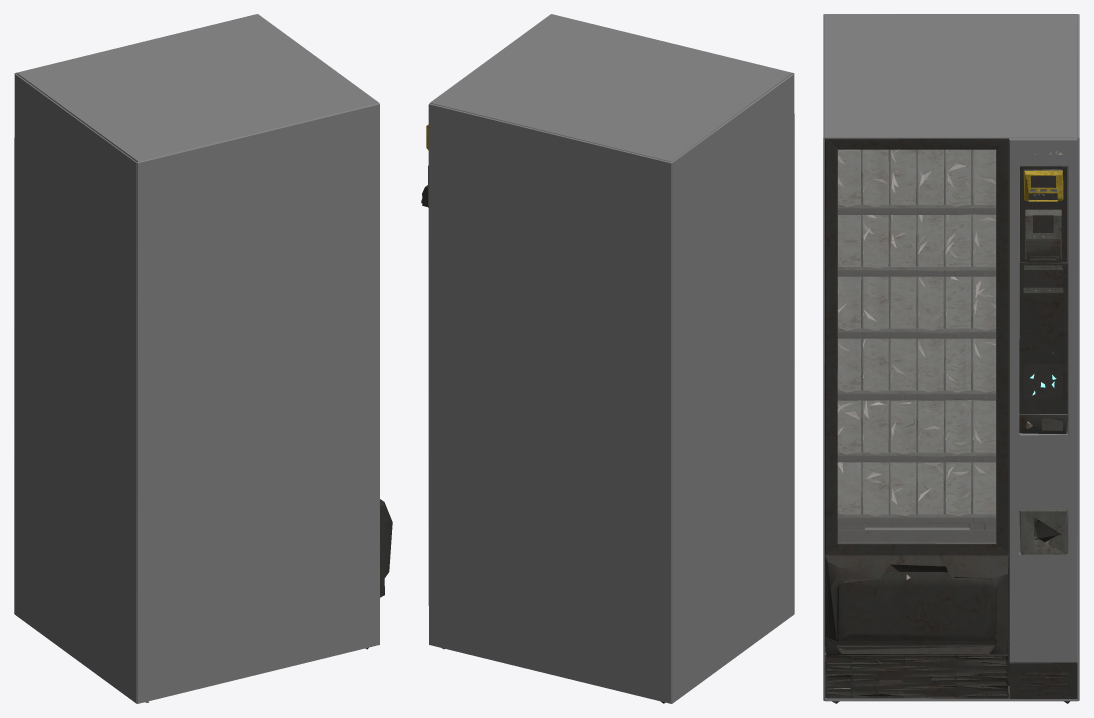
The model's file is metro_vending_machine.glb.
3 views of the same model, side by side, from view 1: azimuth 30°, elevation 25°; view 2: azimuth 150°, elevation 25°; view 3: azimuth 270°, elevation 25° (orthographic). The views are drawn at different scales.
Visible parts, largest first — view 1: metro_vending_machine; view 2: metro_vending_machine; view 3: metro_vending_machine.
Part boxes in pixels (x1,y1,x2,y2): metro_vending_machine: (14, 14, 392, 703); metro_vending_machine: (421, 14, 794, 703); metro_vending_machine: (823, 14, 1079, 703).
Size of the model in its own units: 0.9255 by 1.85 by 0.756.
12 materials, 9 textured.
